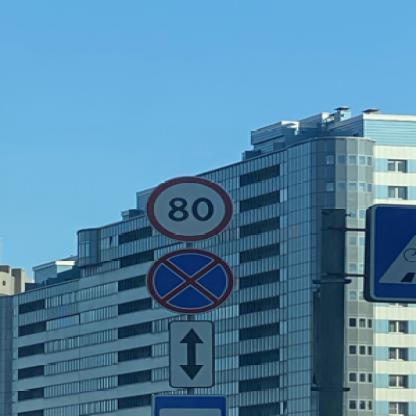crosswalk: (363, 200, 415, 300)
speedlimit: (143, 174, 231, 240)
